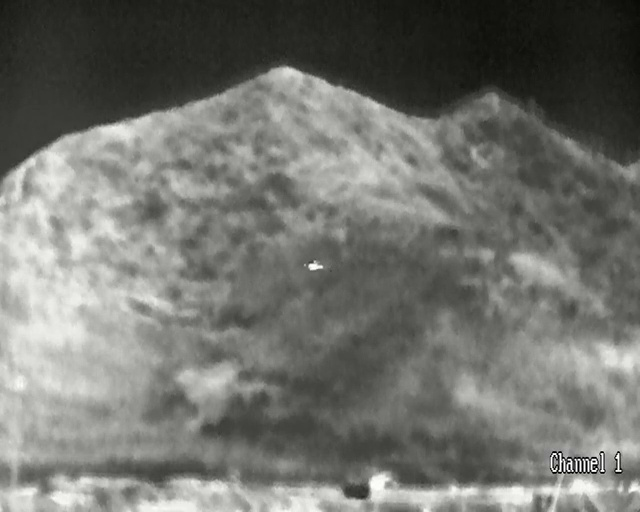uav: (303, 259, 322, 271)
